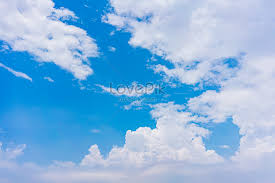sky: (1, 1, 273, 183)
